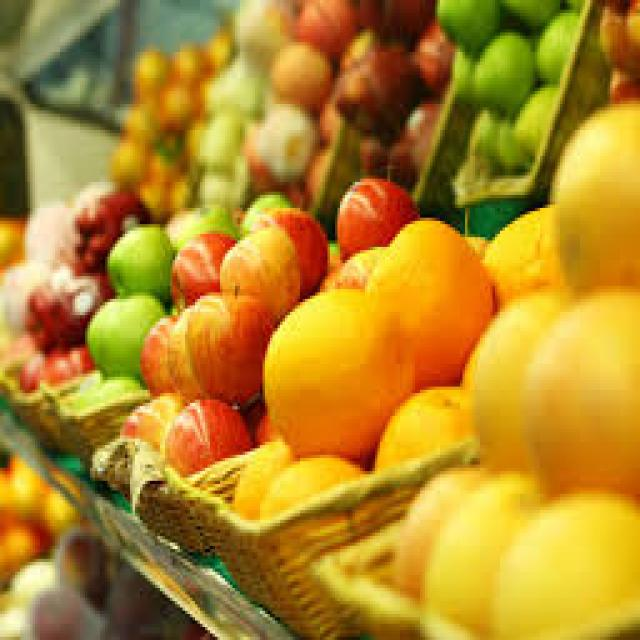biodegradable: (258, 279, 410, 455), (523, 283, 638, 500), (490, 491, 638, 637), (368, 211, 490, 387), (422, 471, 550, 637), (465, 286, 575, 474), (550, 98, 638, 293), (395, 458, 505, 595), (183, 280, 273, 397), (327, 36, 415, 133), (480, 199, 558, 306), (252, 452, 370, 517), (220, 215, 300, 309), (370, 390, 470, 464), (85, 296, 170, 377), (250, 198, 325, 289), (158, 396, 243, 471), (335, 173, 413, 254), (163, 289, 223, 393), (65, 185, 145, 260), (170, 227, 232, 312), (105, 221, 173, 296), (230, 435, 288, 520), (253, 101, 313, 182), (470, 29, 532, 107), (23, 263, 83, 341), (250, 101, 310, 179), (98, 569, 163, 637), (58, 517, 113, 595), (385, 101, 440, 179), (270, 43, 332, 111), (33, 578, 103, 637), (45, 276, 113, 335), (0, 259, 52, 331), (23, 195, 73, 263), (132, 390, 190, 448), (292, 0, 360, 49), (205, 59, 265, 114), (435, 0, 500, 49), (510, 82, 555, 150), (533, 7, 578, 75), (140, 309, 180, 383), (318, 244, 383, 289), (0, 455, 42, 520), (230, 0, 285, 49), (410, 23, 450, 88), (360, 0, 432, 36), (170, 202, 235, 237), (0, 507, 42, 559), (155, 72, 200, 120), (462, 108, 500, 163), (495, 107, 527, 172), (595, 4, 625, 72), (235, 189, 287, 228), (38, 341, 90, 380), (195, 111, 243, 153), (450, 46, 478, 111), (110, 133, 145, 185), (500, 0, 558, 29), (120, 98, 160, 137), (62, 166, 110, 198), (190, 169, 232, 205), (145, 134, 180, 176), (42, 481, 70, 533), (133, 46, 163, 94), (70, 377, 135, 399), (138, 175, 168, 221), (240, 393, 275, 432), (200, 23, 232, 65), (225, 143, 247, 201), (0, 334, 32, 370), (120, 400, 150, 435), (15, 348, 45, 383), (0, 217, 22, 263), (303, 153, 328, 192), (625, 3, 637, 78), (173, 42, 198, 78), (608, 72, 638, 101), (318, 94, 340, 133), (170, 169, 192, 205), (463, 227, 493, 247), (597, 0, 637, 6), (560, 0, 582, 10), (323, 241, 335, 254)
